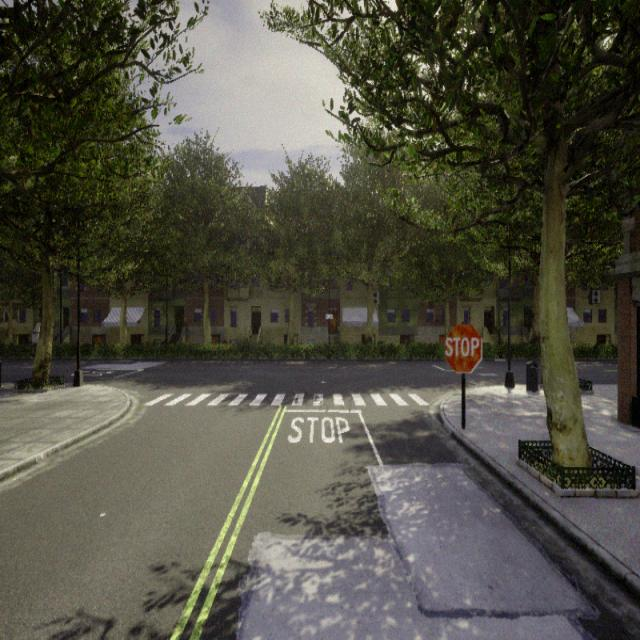stop sign: (442, 320, 484, 374), (444, 335, 480, 358)
